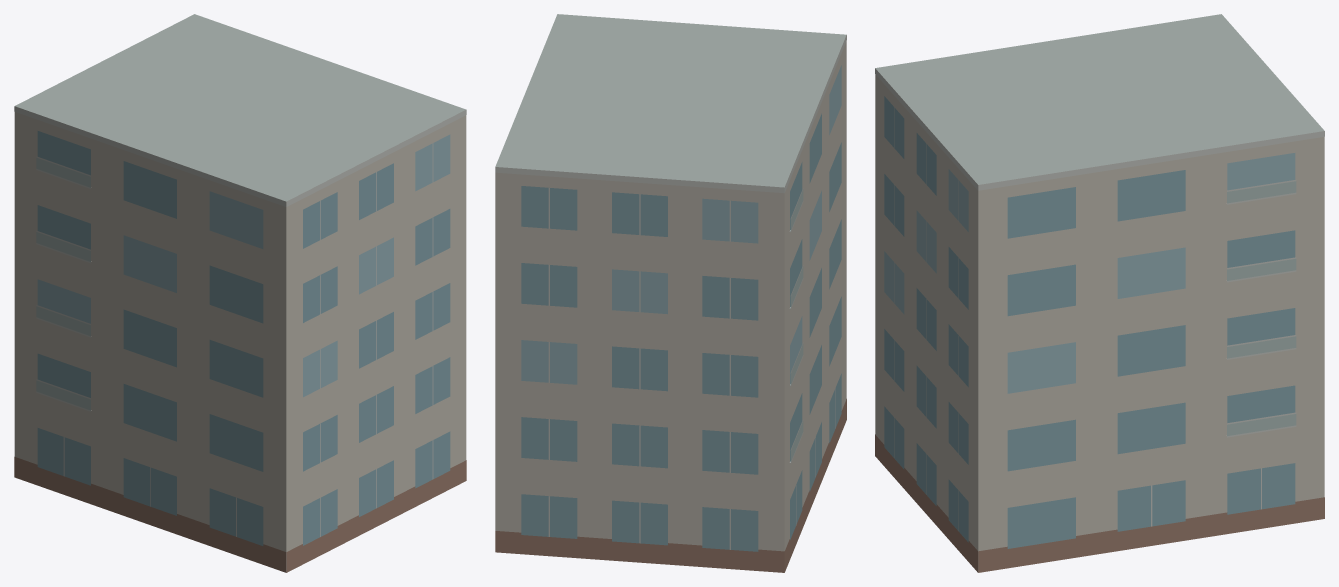
File: survey-upis-32853963.glb
3 views of the same model, side by side, from view 1: azimuth 30°, elevation 25°; view 2: azimuth 150°, elevation 25°; view 3: azimuth 270°, elevation 25° (orthographic). The views are drawn at different scales.
Visible parts, largest first — view 1: survey-upis-32853963.tmp; view 2: survey-upis-32853963.tmp; view 3: survey-upis-32853963.tmp.
Boxes of the visible parts, box(x1,y1,x2,y2) form: survey-upis-32853963.tmp: box(14, 14, 466, 572); survey-upis-32853963.tmp: box(495, 14, 846, 572); survey-upis-32853963.tmp: box(875, 14, 1324, 572).
Bounding box in the file's own units: 15.51 × 16.4 × 17.24.
